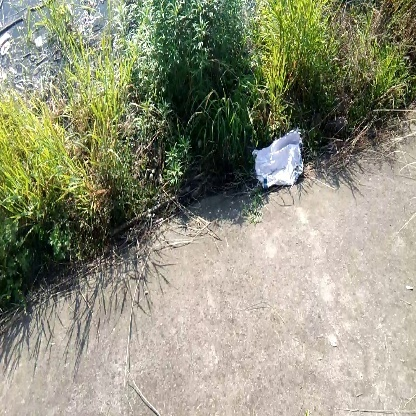milk-box: (245, 124, 316, 194)
